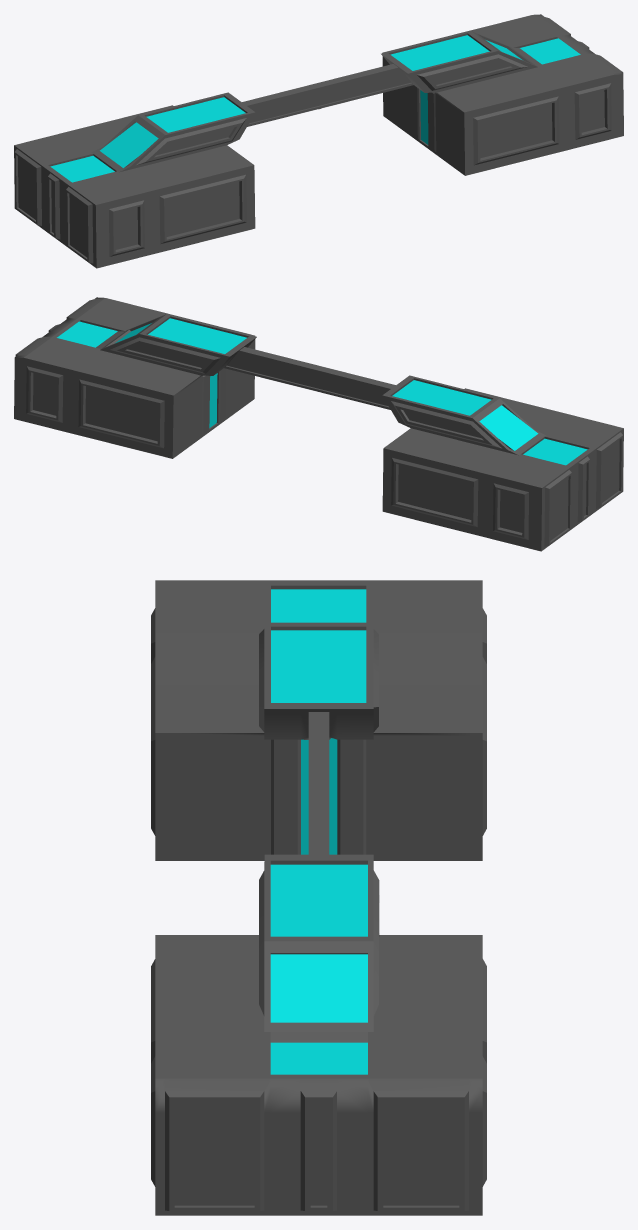
Rendered from light_structure.fbx.
The picture shows the model from 3 angles, top to bottom: view 1: azimuth 30°, elevation 25°; view 2: azimuth 150°, elevation 25°; view 3: azimuth 270°, elevation 25°; orthographic projection. The views are drawn at different scales.
Parts seen in each view (by area): view 1: polySurface72; view 2: polySurface72; view 3: polySurface72.
Boxes of the visible parts, x1,y1,x2,y2 form: polySurface72: (14,14,623,268); polySurface72: (14,297,623,551); polySurface72: (151,580,486,1215).
Size of the model in its own units: 2.03 by 0.3368 by 0.5518.
